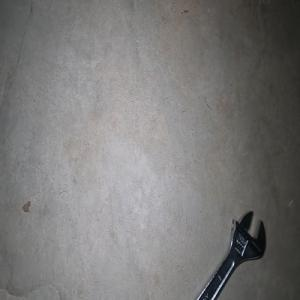Wrench: (196, 210, 265, 300)
